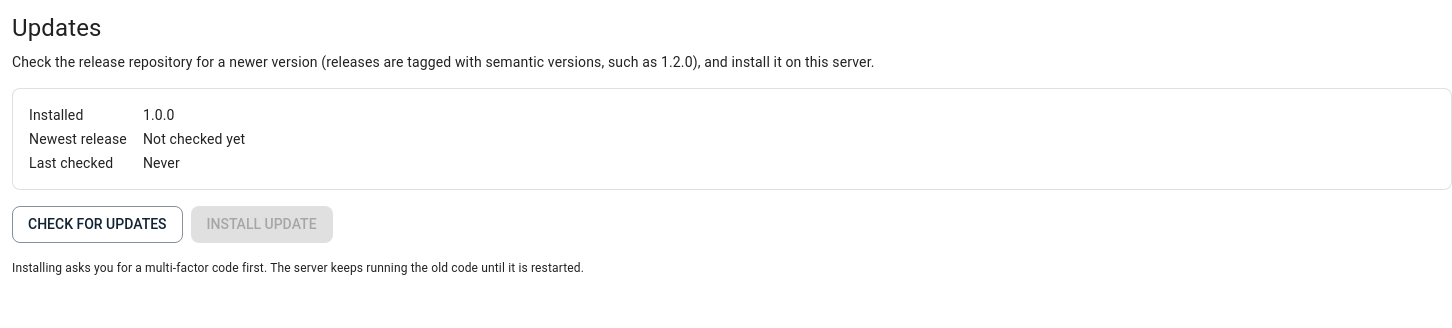
Scenario: Admin > Updates › checks for releases when asked
Click the button "Check for updates" at [97, 225], box x1=12 y1=206 x2=182 y2=243
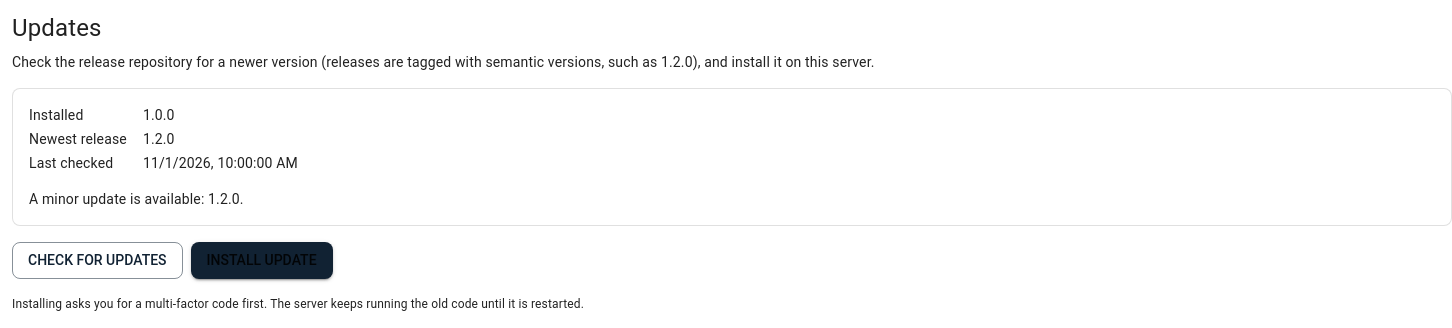
Now the text "A minor update is available: 1.2.0." is shown, box x1=29 y1=192 x2=244 y2=208
